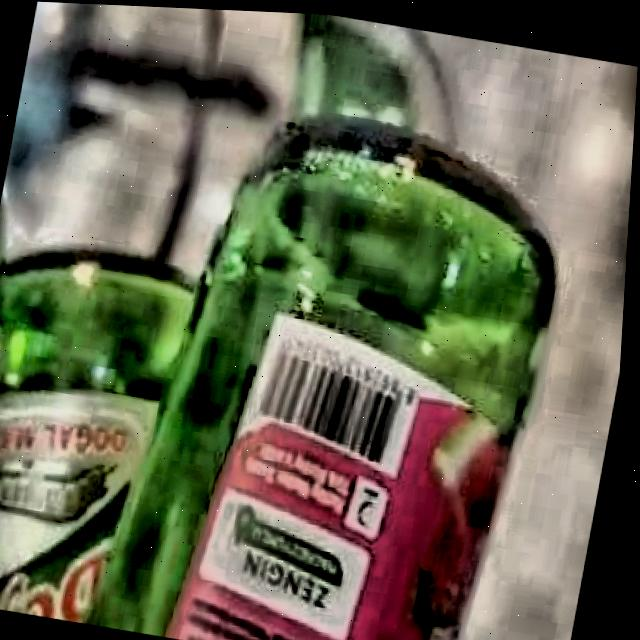glass: (0, 112, 556, 640)
